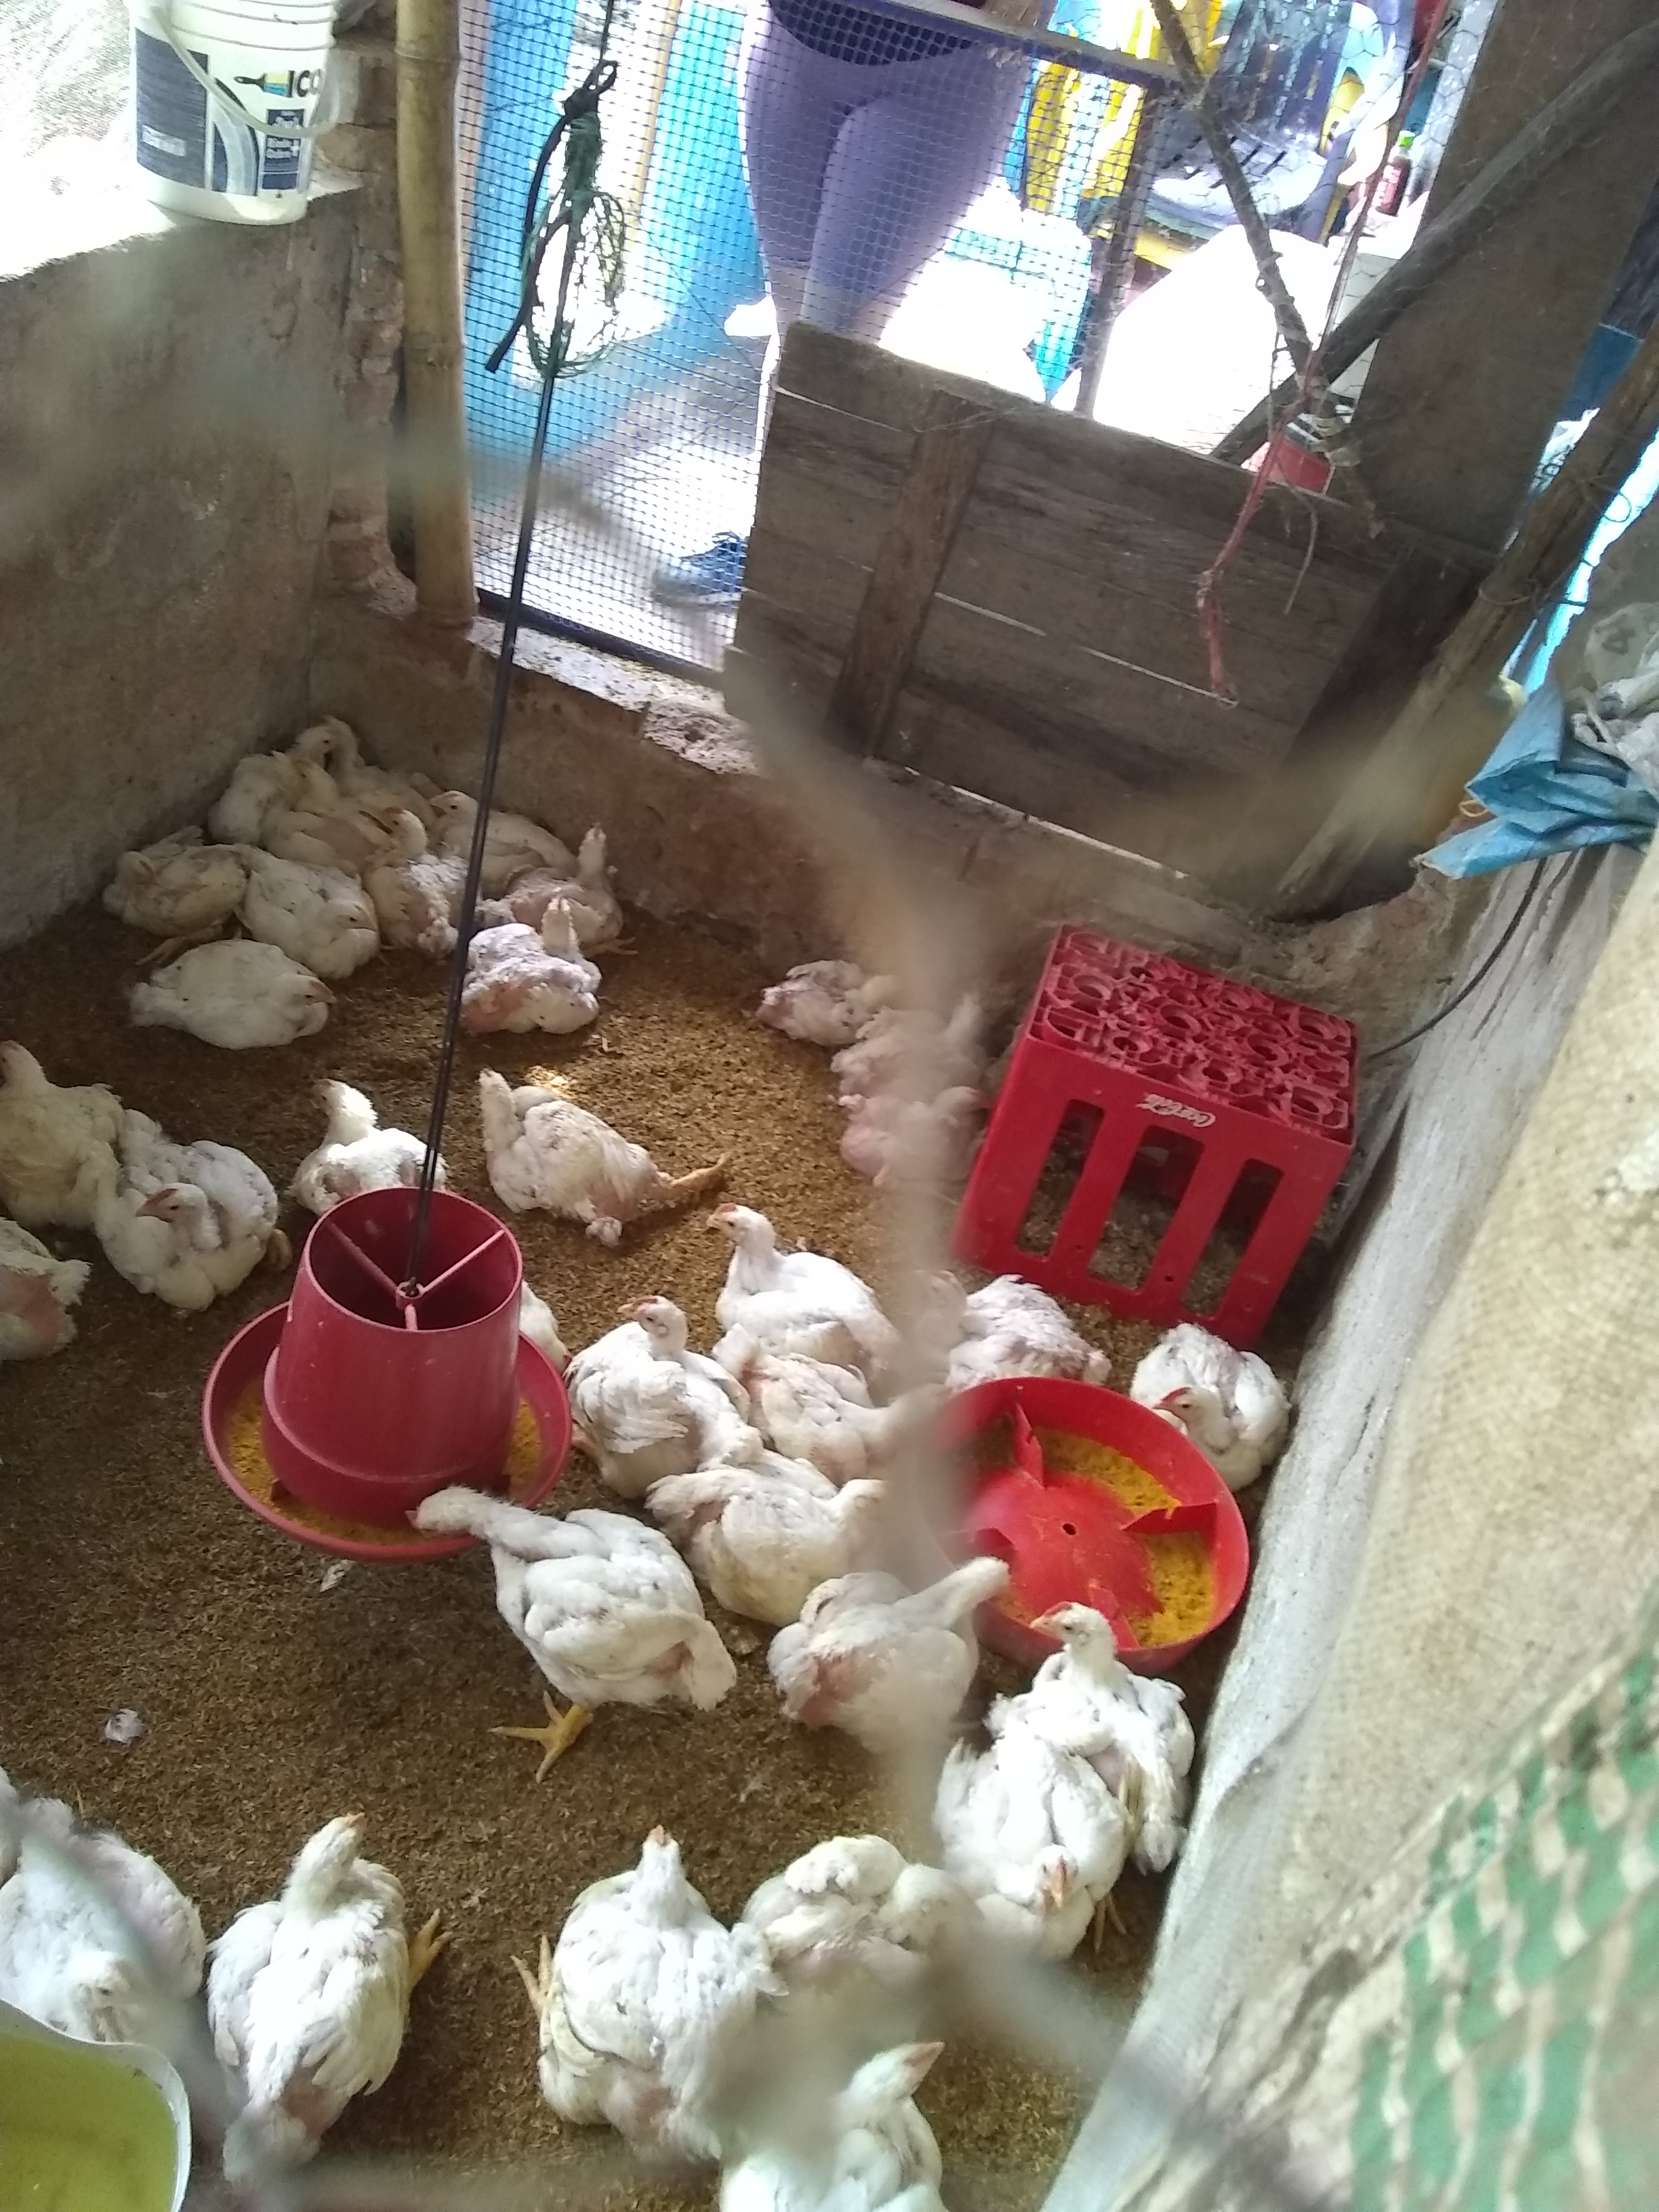Pollos: (406, 1475, 723, 1742), (214, 1791, 439, 2139), (0, 1747, 213, 2111), (732, 1815, 1009, 2071), (1023, 1588, 1208, 1839), (718, 2024, 964, 2212), (469, 1061, 735, 1231), (781, 1534, 1021, 1721), (958, 1712, 1129, 1968), (552, 1813, 725, 2066), (108, 1106, 286, 1322), (910, 1247, 1115, 1421), (681, 1411, 892, 1580), (1136, 1296, 1297, 1517), (683, 1190, 882, 1353), (575, 1263, 728, 1451), (751, 1317, 934, 1472), (0, 1029, 125, 1224), (293, 1075, 455, 1224), (836, 1083, 992, 1223), (129, 942, 338, 1045), (443, 904, 605, 1035), (240, 857, 390, 993), (0, 1217, 106, 1374), (845, 986, 1007, 1087), (368, 803, 474, 941), (758, 948, 906, 1042), (105, 831, 228, 934), (427, 779, 552, 878), (518, 822, 617, 928), (293, 752, 349, 820), (329, 700, 378, 768), (279, 711, 329, 765)
